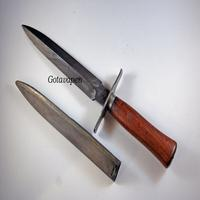knife: (19, 20, 175, 156), (13, 79, 124, 188)
